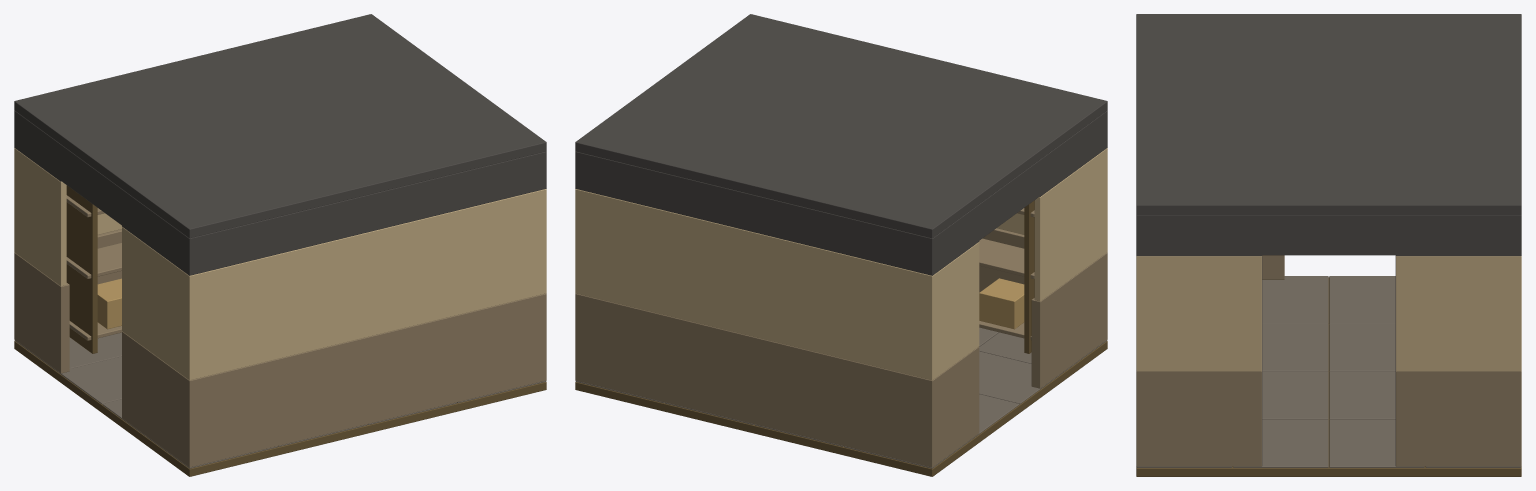
Rendered from gen-drystores.glb.
3 renders of one model, left to right at view 1: azimuth 30°, elevation 25°; view 2: azimuth 150°, elevation 25°; view 3: azimuth 270°, elevation 25°, orthographic. The views are drawn at different scales.
Visible parts, largest first — view 1: THE DRYSTORES; view 2: THE DRYSTORES; view 3: THE DRYSTORES.
Boxes of the visible parts, x1,y1,x2,y2 form: THE DRYSTORES: (14,14,546,476); THE DRYSTORES: (575,14,1107,476); THE DRYSTORES: (1136,14,1521,476).
Bounding box in the file's own units: 4 × 2.65 × 3.4.
